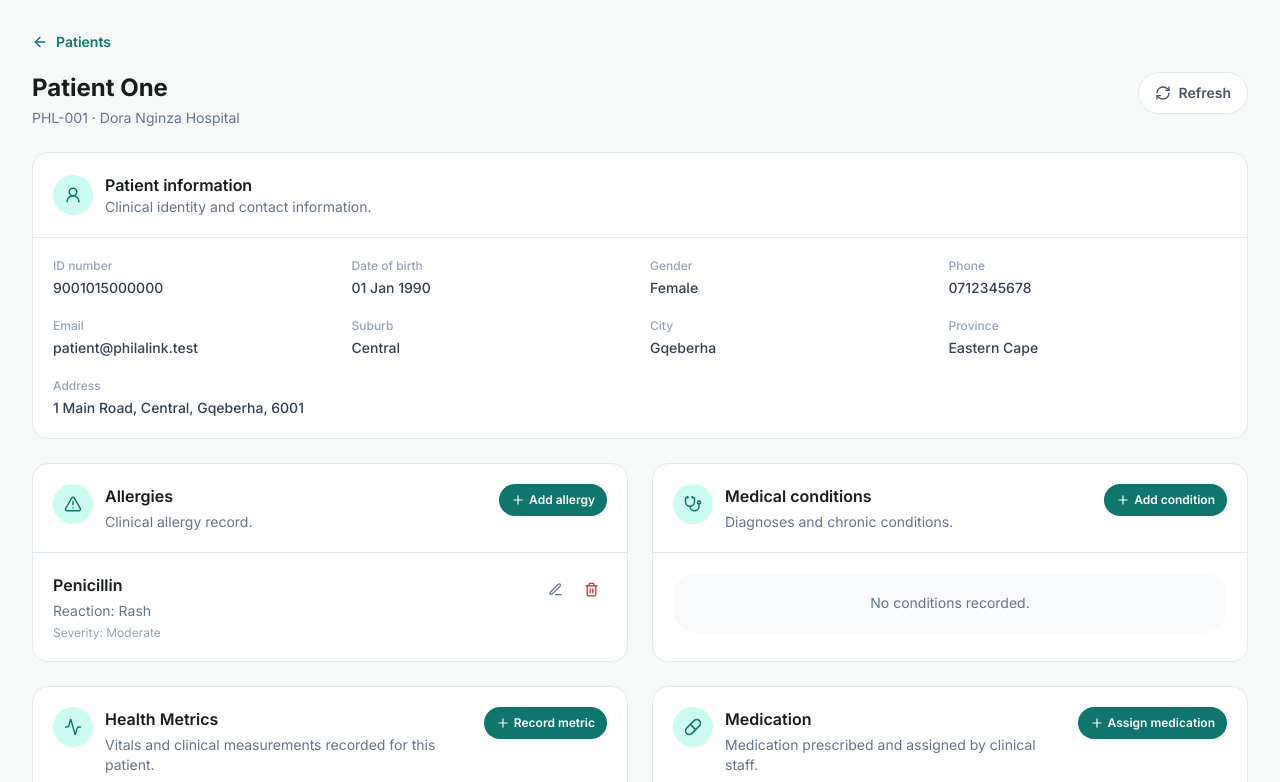
Test: NursePatientCarePage › removes an allergy through the nurse API and refreshes the record
The image size is (1280, 782).
What coordinates should you click on to do the following:
click the button titled "Remove allergy"
I would click on:
 (591, 589)
Its box is [575, 573, 607, 605].
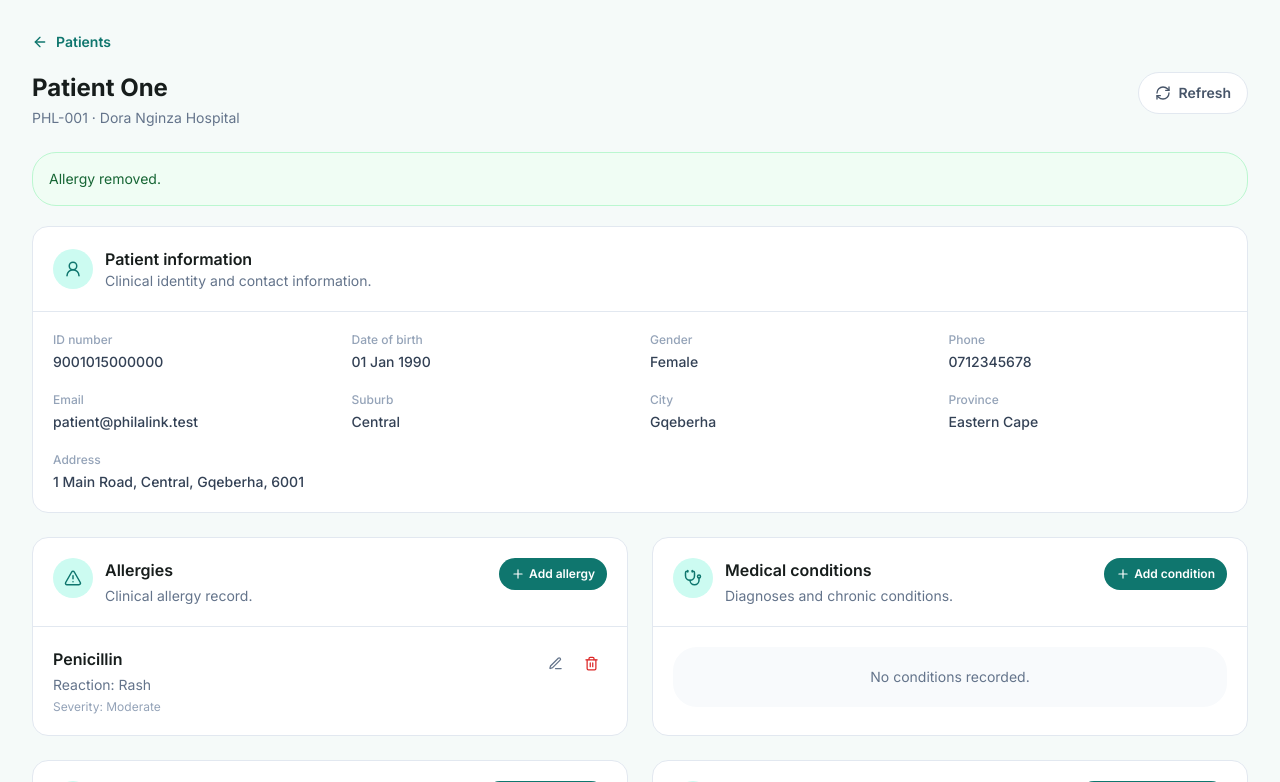
Result: the text "Allergy removed." is shown at [32, 152, 1248, 206]
